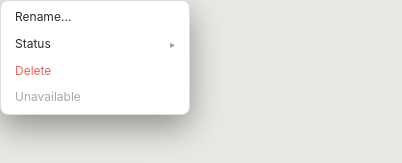
it: every enabled row highlights — hover, focus, or an open submenu › a submenu parent keeps its existing behaviour: lit while its child panel is open
The width and height of the screenshot is (402, 163).
Step 1. Hover over the menu item "Status ▸" → coordinates (95, 44), box [5,32,185,57]
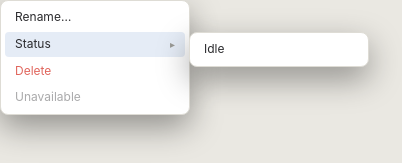
Expected: the menu with test id "context-submenu" is shown, [189,32,369,67]
